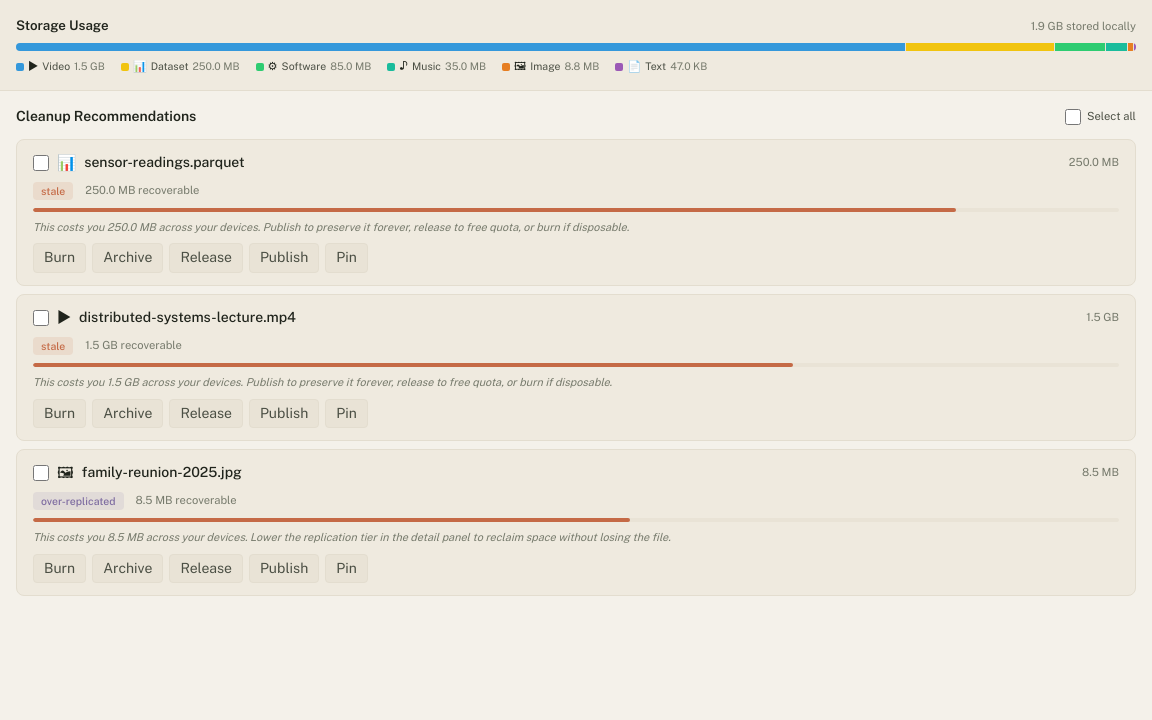
CleanupView › deselects all when select-all is unchecked
This screenshot has width=1152, height=720.
# Select all, then deselect
Click the checkbox labelled "Select all": (1073, 117) x1=1065 y1=109 x2=1081 y2=125
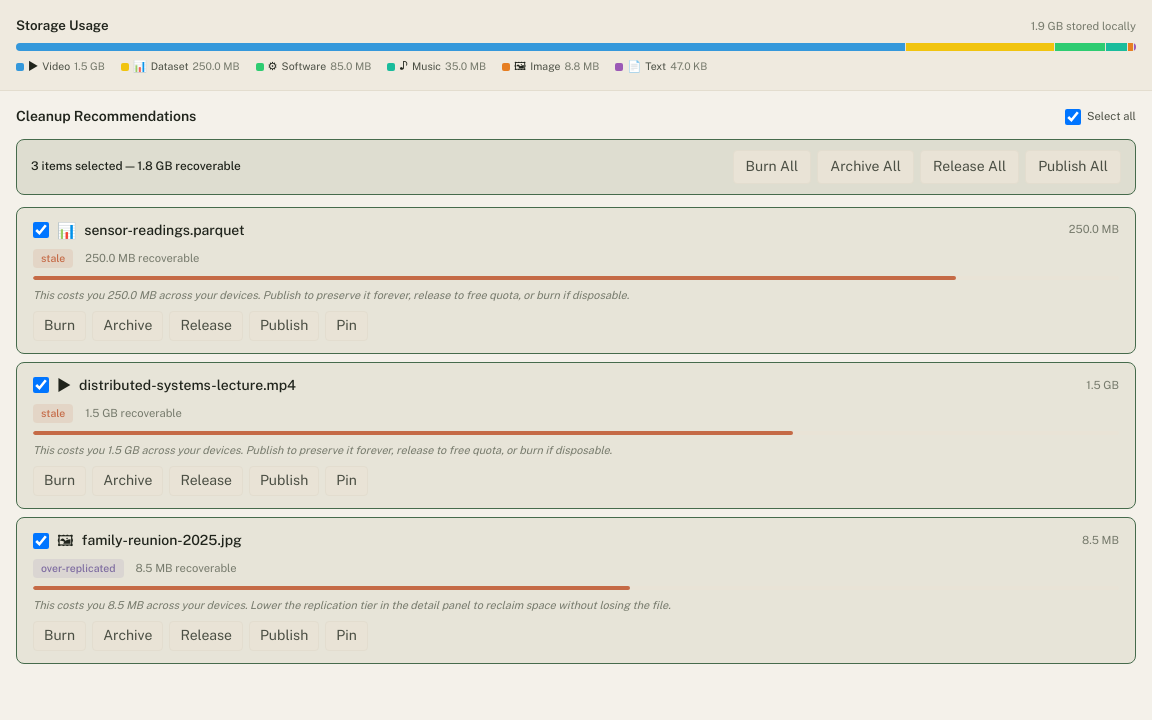
Click the checkbox labelled "Select all": (1073, 117) x1=1065 y1=109 x2=1081 y2=125
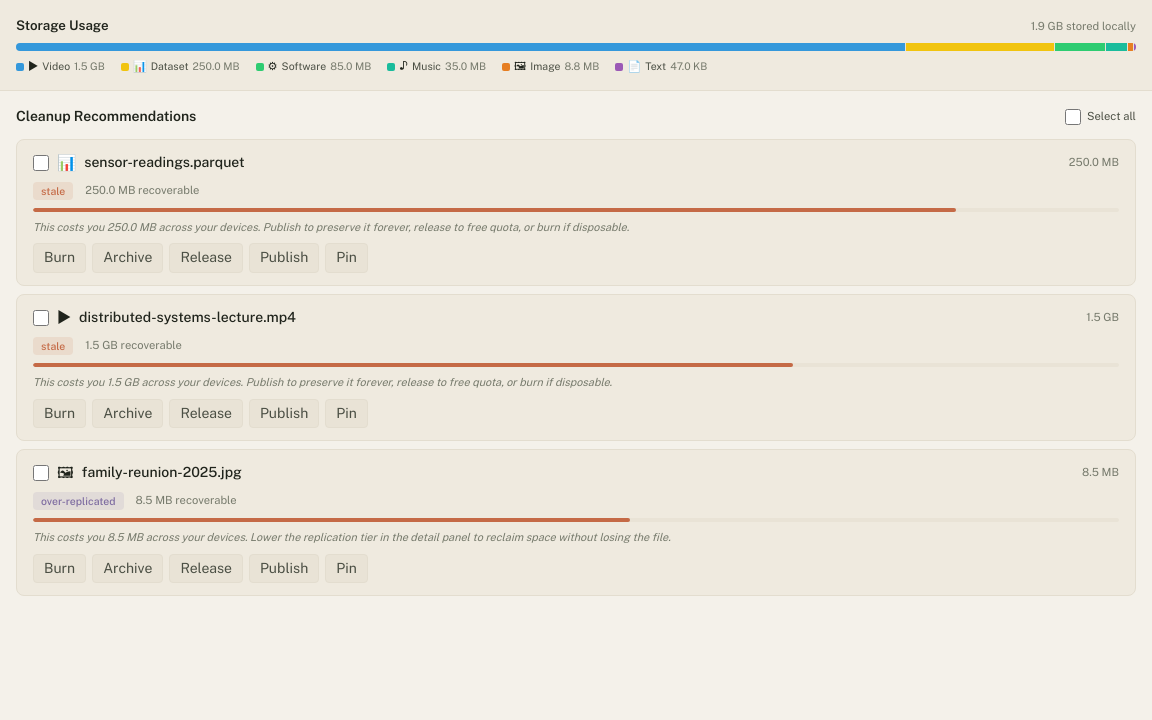
Expected: the checkbox labelled "Select all" is not checked, x1=1065 y1=109 x2=1081 y2=125
Expected: the checkbox named "Select sensor-readings.parquet" is not checked, x1=33 y1=155 x2=49 y2=171
Expected: the checkbox named "Select distributed-systems-lecture.mp4" is not checked, x1=33 y1=310 x2=49 y2=326
